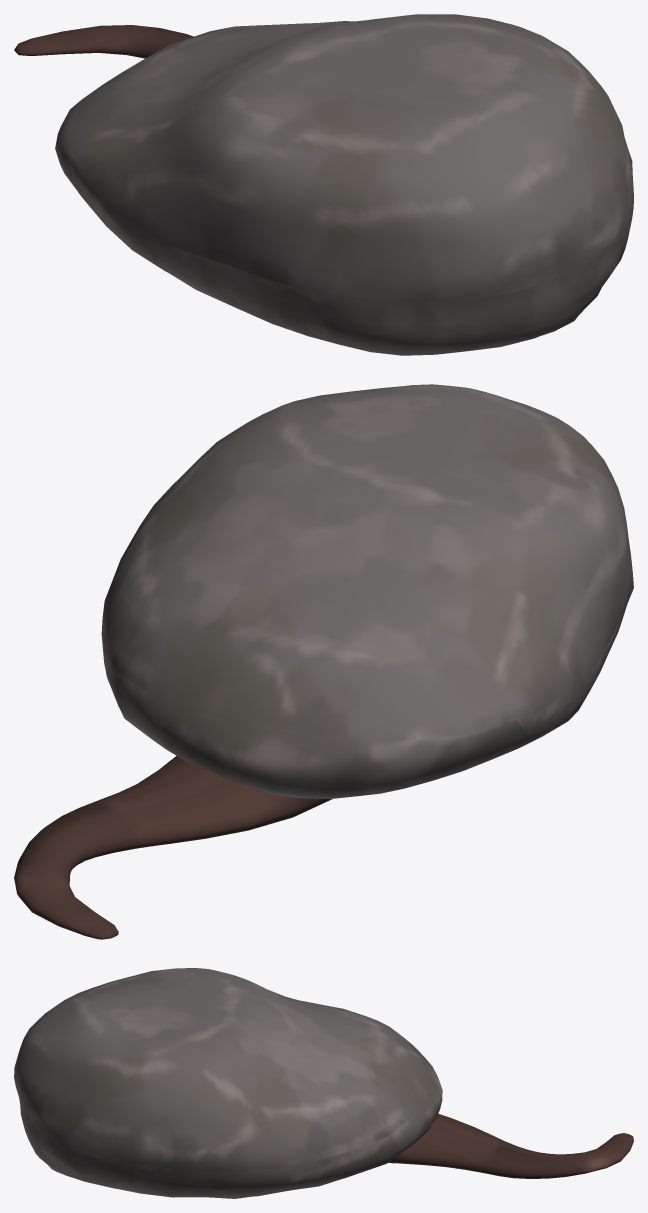
Rendered from Item_SalamanderRock.fbx.
The picture shows the model from 3 angles, top to bottom: view 1: azimuth 30°, elevation 25°; view 2: azimuth 150°, elevation 25°; view 3: azimuth 270°, elevation 25°; orthographic projection. The views are drawn at different scales.
Visible parts, largest first — view 1: Item_SalamanderRock, Item_SalamanderRockTail; view 2: Item_SalamanderRock, Item_SalamanderRockTail; view 3: Item_SalamanderRock, Item_SalamanderRockTail.
Part boxes in pixels (bbox=[...]): Item_SalamanderRock: bbox=[55, 14, 633, 355]; Item_SalamanderRockTail: bbox=[14, 25, 193, 58]; Item_SalamanderRock: bbox=[101, 384, 633, 798]; Item_SalamanderRockTail: bbox=[14, 756, 332, 939]; Item_SalamanderRock: bbox=[14, 968, 442, 1198]; Item_SalamanderRockTail: bbox=[388, 1114, 633, 1178].
Bounding box in the file's own units: 57.45 × 27.78 × 104.
